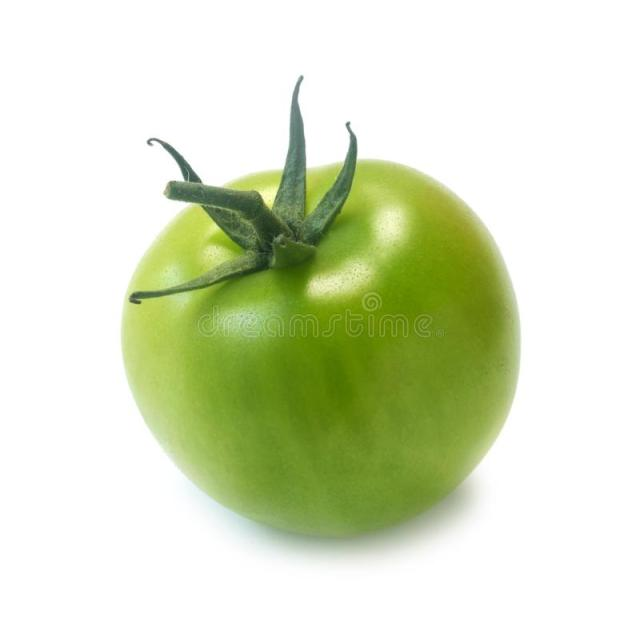yesil: (84, 140, 550, 550)
